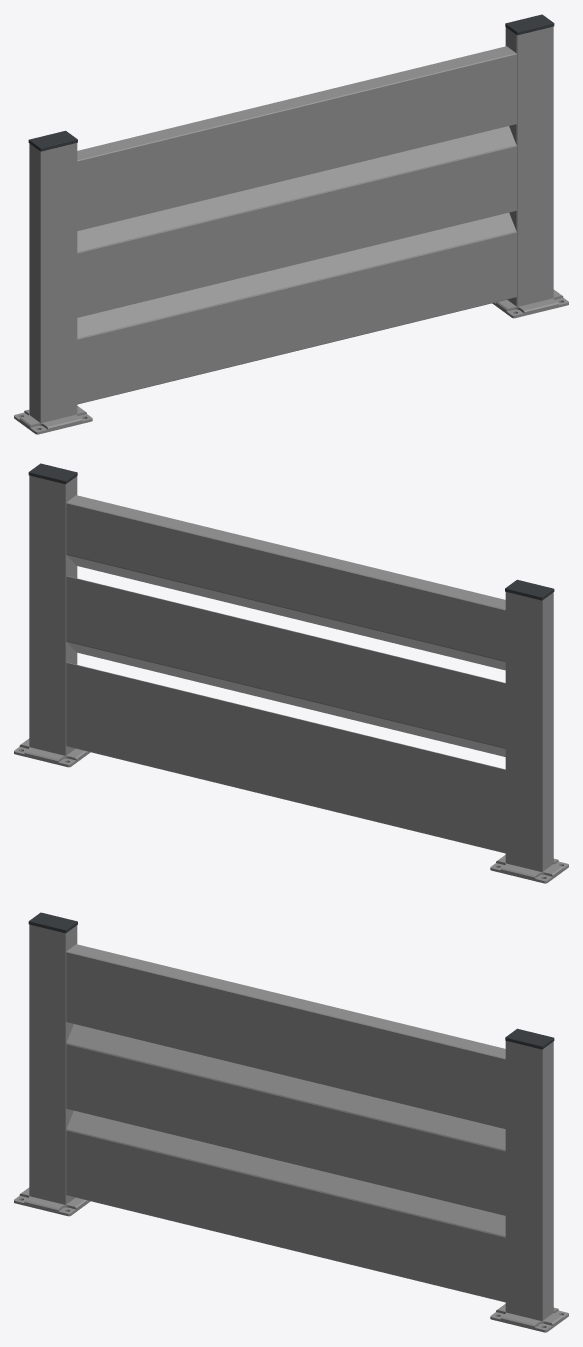
3 renders of one model, top to bottom at view 1: azimuth 30°, elevation 25°; view 2: azimuth 150°, elevation 25°; view 3: azimuth 330°, elevation 25°, orthographic.
Visible parts, largest first — view 1: Rectangle067, Rectangle063, Rectangle064, base013, base012, Box022, Box021; view 2: Rectangle067, Rectangle063, Rectangle064, base013, base012, Box022, Box021; view 3: Rectangle067, Rectangle064, Rectangle063, base012, base013, Box021, Box022.
Boxes of the visible parts, x1=… form: Rectangle067: x1=77, y1=46, x2=516, y2=404; Rectangle063: x1=29, y1=143, x2=77, y2=422; Rectangle064: x1=505, y1=26, x2=553, y2=306; base013: x1=14, y1=406, x2=92, y2=434; base012: x1=492, y1=289, x2=568, y2=318; Box022: x1=505, y1=14, x2=554, y2=35; Box021: x1=28, y1=130, x2=77, y2=151; Rectangle067: x1=66, y1=495, x2=505, y2=853; Rectangle063: x1=505, y1=592, x2=553, y2=871; Rectangle064: x1=29, y1=475, x2=77, y2=755; base013: x1=490, y1=855, x2=568, y2=883; base012: x1=14, y1=738, x2=90, y2=767; Box022: x1=28, y1=463, x2=77, y2=484; Box021: x1=505, y1=579, x2=554, y2=600; Rectangle067: x1=66, y1=944, x2=505, y2=1302; Rectangle064: x1=505, y1=1041, x2=553, y2=1320; Rectangle063: x1=29, y1=924, x2=77, y2=1204; base012: x1=490, y1=1304, x2=568, y2=1332; base013: x1=14, y1=1187, x2=90, y2=1216; Box021: x1=28, y1=912, x2=77, y2=933; Box022: x1=505, y1=1028, x2=554, y2=1049.
Size of the model in its own units: 1171 by 587 by 90.02.
Materials: 2 (1 with a texture image).
